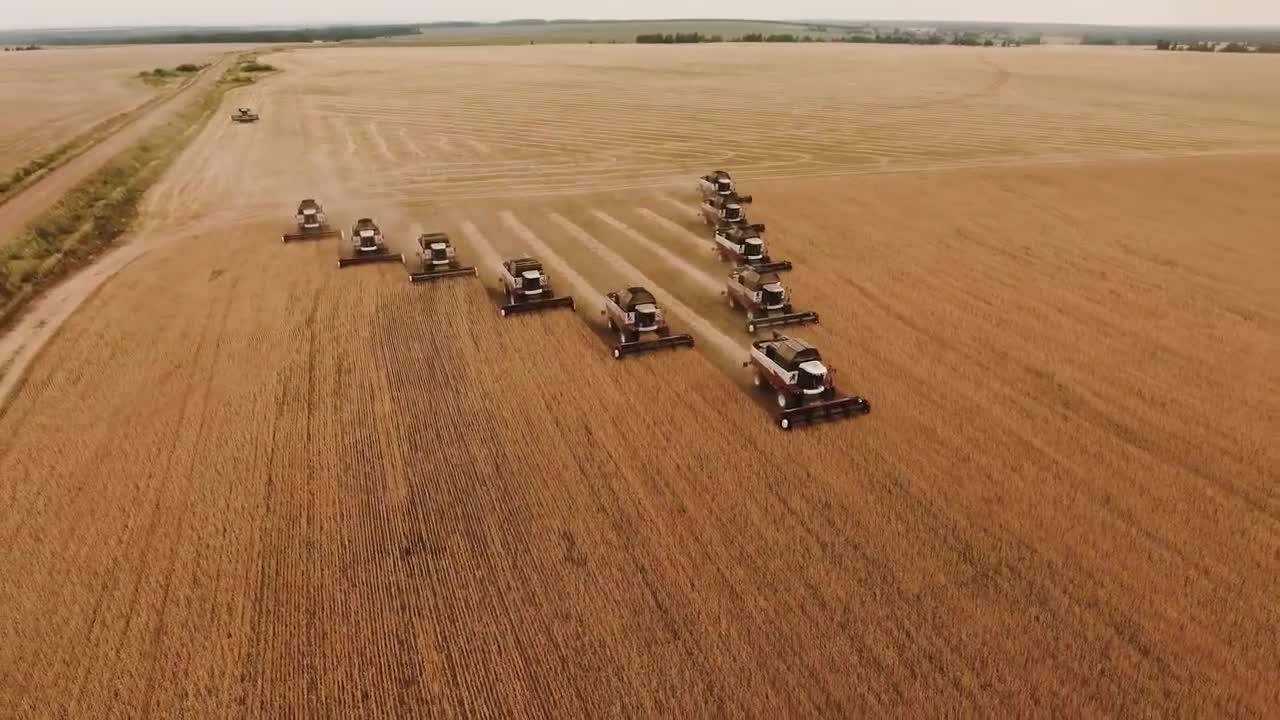combine harvester: (740, 327, 877, 440), (591, 281, 699, 362), (719, 265, 823, 336), (492, 252, 579, 324), (713, 221, 796, 278), (403, 229, 483, 288), (337, 218, 408, 272), (279, 192, 348, 244), (698, 192, 769, 236), (697, 166, 756, 212), (229, 102, 261, 127)
